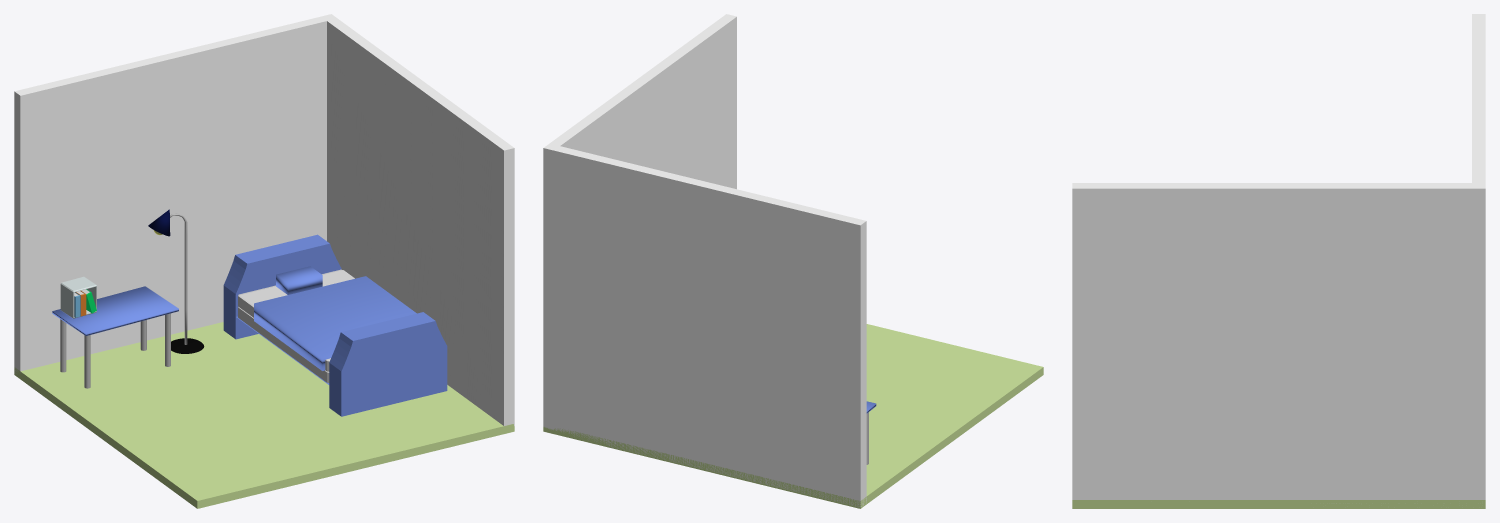
Rendered from miniroomBeta2.glb.
3 renders of one model, left to right at view 1: azimuth 30°, elevation 25°; view 2: azimuth 150°, elevation 25°; view 3: azimuth 270°, elevation 25°, orthographic. The views are drawn at different scales.
Visible parts, largest first — view 1: 큐브, 큐브.001, 평면, 큐브.006, 큐브.007, 평면.001, 실린더, 평면.007, 큐브.008, 평면.006, 큐브.002; view 2: 큐브, 평면, 큐브.001; view 3: 큐브.001, 큐브, 평면.
Boxes of the visible parts, bbox=[...] form: 큐브: bbox=[14, 14, 336, 373]; 큐브.001: bbox=[321, 14, 514, 425]; 평면: bbox=[14, 322, 514, 508]; 큐브.006: bbox=[223, 234, 447, 416]; 큐브.007: bbox=[254, 276, 416, 370]; 평면.001: bbox=[52, 286, 178, 335]; 실린더: bbox=[60, 313, 170, 388]; 평면.007: bbox=[238, 269, 354, 371]; 큐브.008: bbox=[276, 266, 322, 294]; 평면.006: bbox=[238, 307, 329, 382]; 큐브.002: bbox=[60, 276, 96, 318]; 큐브: bbox=[543, 145, 866, 507]; 평면: bbox=[543, 324, 1043, 508]; 큐브.001: bbox=[543, 14, 736, 429]; 큐브.001: bbox=[1072, 183, 1485, 503]; 큐브: bbox=[1472, 14, 1485, 499]; 평면: bbox=[1072, 500, 1485, 508].
Size of the model in its own units: 30 by 25.64 by 30.
